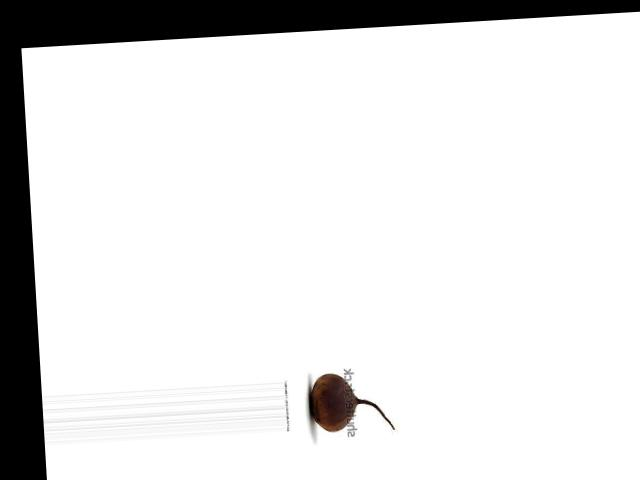beet: (307, 368, 394, 434)
